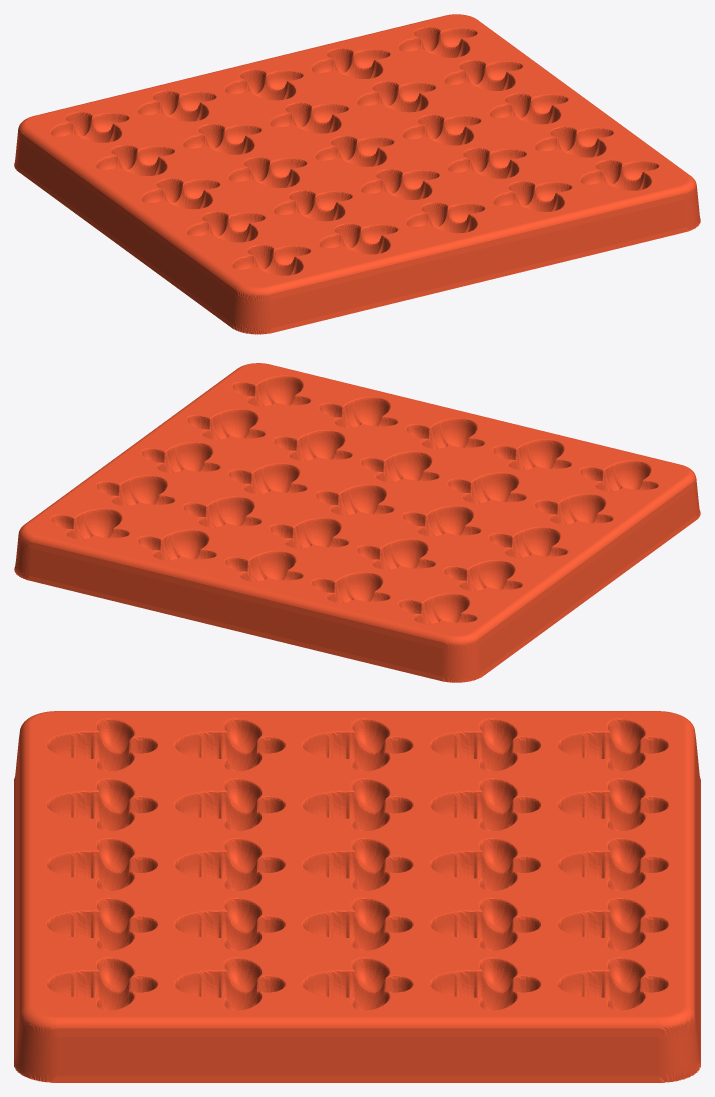
Rendered from mold.glb.
The picture shows the model from 3 angles, top to bottom: view 1: azimuth 30°, elevation 25°; view 2: azimuth 150°, elevation 25°; view 3: azimuth 270°, elevation 25°; orthographic projection. The views are drawn at different scales.
Parts seen in each view (by area): view 1: geometry_0; view 2: geometry_0; view 3: geometry_0.
Part boxes in pixels (x1,y1,x2,y2): geometry_0: [14, 14, 700, 334]; geometry_0: [14, 363, 700, 682]; geometry_0: [14, 711, 700, 1082].
Bounding box in the file's own units: 0.1584 × 0.0136 × 0.1441.
